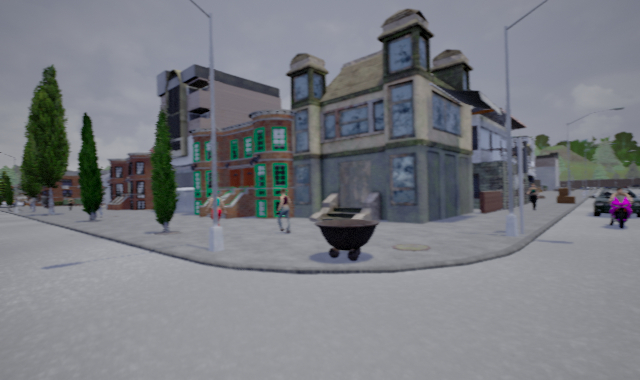motobike: (606, 185, 636, 230)
pedestrian: (204, 187, 224, 236), (275, 186, 292, 233), (526, 181, 541, 210)
vehicle: (588, 185, 639, 219)
